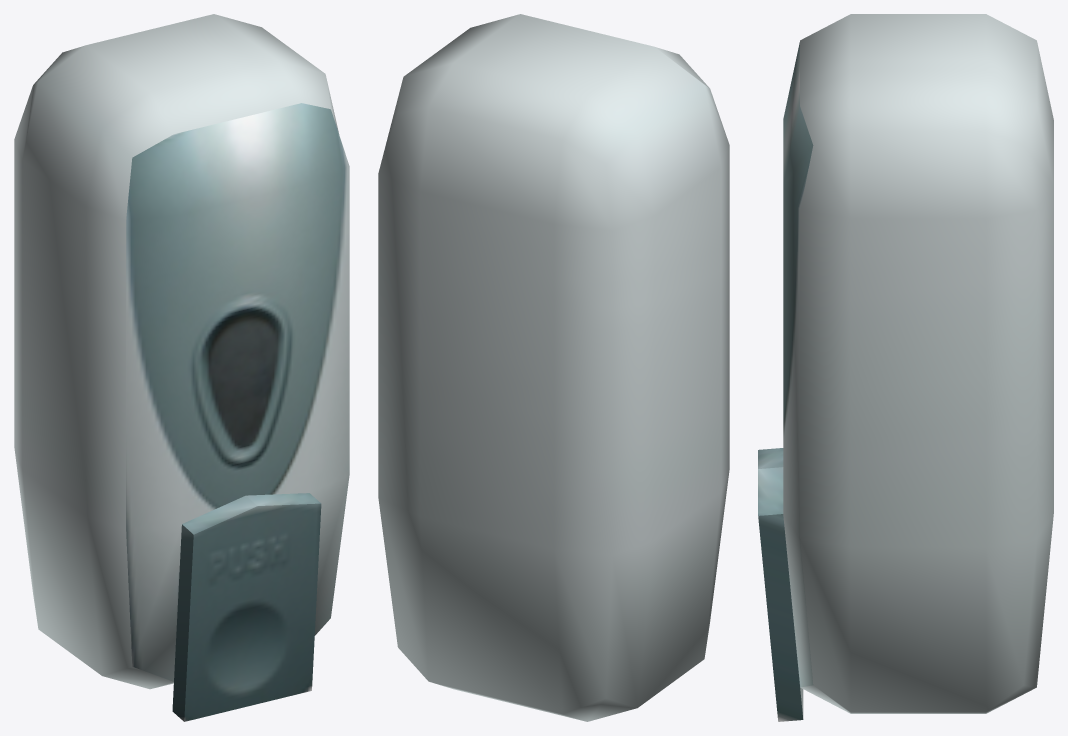
File: soapDispenser.FBX
The picture shows the model from 3 angles, left to right: view 1: azimuth 30°, elevation 25°; view 2: azimuth 150°, elevation 25°; view 3: azimuth 270°, elevation 25°; orthographic projection. The views are drawn at different scales.
Visible parts, largest first — view 1: soapDispenser; view 2: soapDispenser; view 3: soapDispenser.
Part boxes in pixels (bbox=[...]): soapDispenser: bbox=[14, 14, 349, 721]; soapDispenser: bbox=[378, 14, 729, 721]; soapDispenser: bbox=[758, 14, 1053, 721].
Size of the model in its own units: 3.77 by 8.54 by 3.57.
